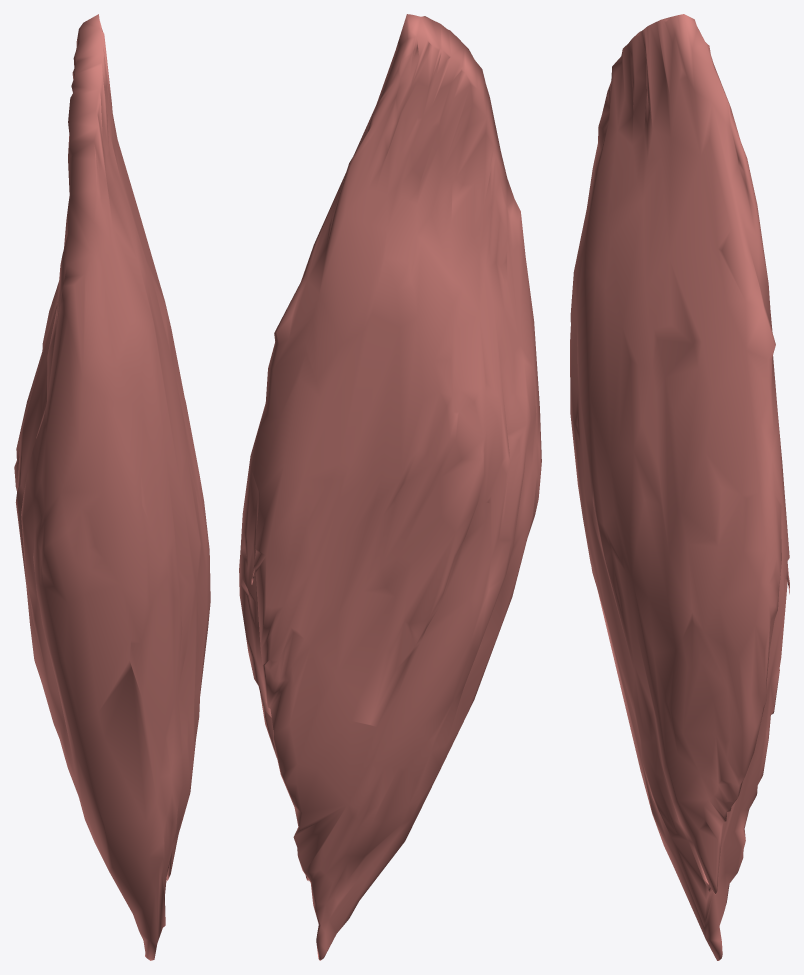
The picture shows the model from 3 angles, left to right: view 1: azimuth 30°, elevation 25°; view 2: azimuth 150°, elevation 25°; view 3: azimuth 270°, elevation 25°; orthographic projection. The views are drawn at different scales.
Parts seen in each view (by area): view 1: ZA_5de17f418d0a6466; view 2: ZA_5de17f418d0a6466; view 3: ZA_5de17f418d0a6466.
Part boxes in pixels (box(x1,y1,x2,y2)): ZA_5de17f418d0a6466: box(14, 14, 210, 960); ZA_5de17f418d0a6466: box(239, 14, 541, 960); ZA_5de17f418d0a6466: box(570, 14, 789, 960).
Bounding box in the file's own units: 0.0391 × 0.1615 × 0.0352.
